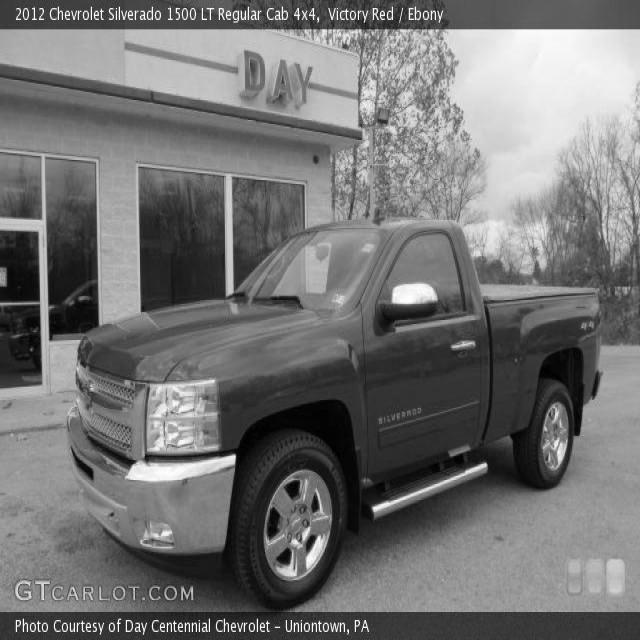car: (7, 277, 98, 371)
